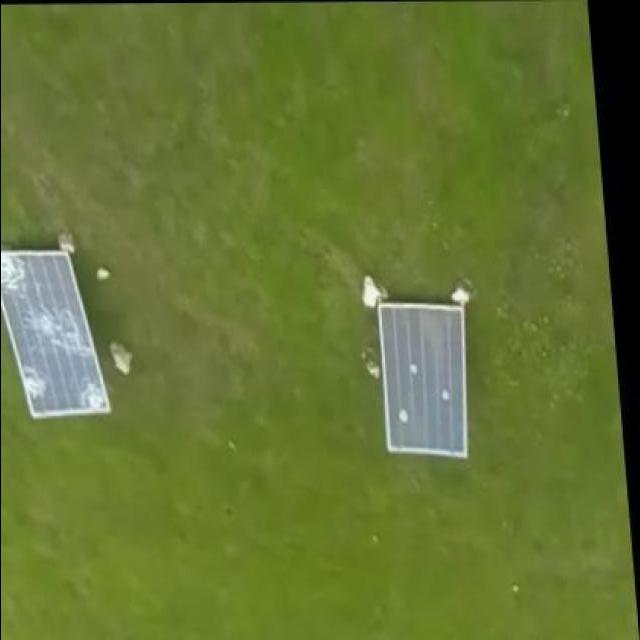cracked: (0, 241, 116, 424)
soiled: (373, 291, 477, 463)
